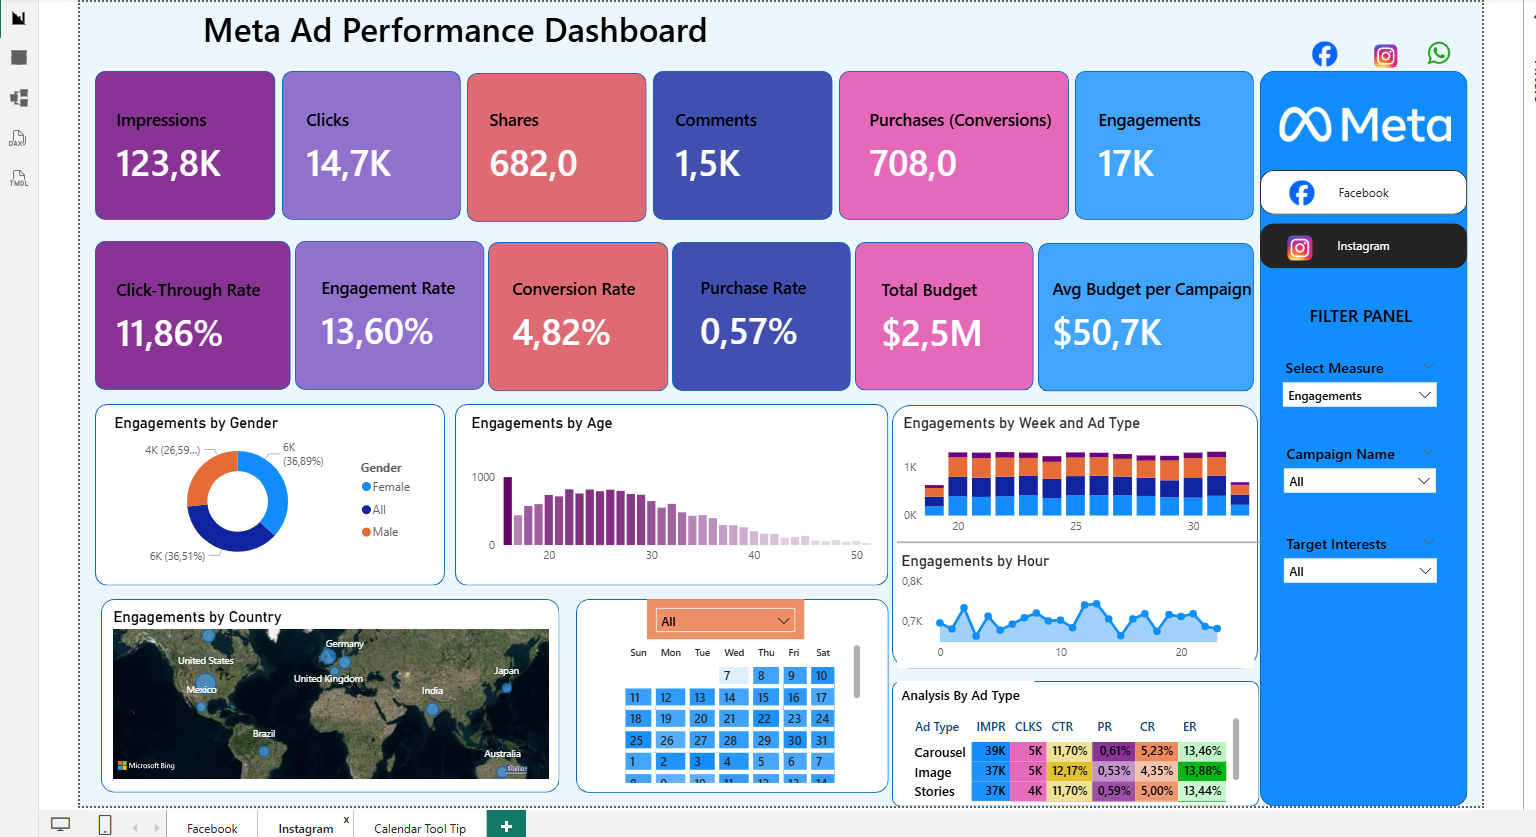

The page's visual inventory and layout, read from the dashboard file:
{"tool":"powerbi","page":{"name":"Instagram","canvas":[1570,900],"ordinal":1},"visuals":[{"type":"textbox","box":[89.2,0,661.5,77.4],"z":0},{"type":"shape","box":[16.8,77.4,202,166.6],"z":1000},{"type":"shape","box":[1321.2,77.4,232.3,823],"z":2000},{"type":"shape","box":[225.9,77.4,200.3,166.6],"z":3000},{"type":"shape","box":[433.2,79.1,201,166.6],"z":4000},{"type":"shape","box":[641.3,77.4,201,166.6],"z":5000},{"type":"shape","box":[849.3,77.4,257.5,166.6],"z":6000},{"type":"shape","box":[1113.9,77.4,200.3,166.6],"z":7000},{"type":"cardVisual","fields":{"Data":["ads.Impressions"]},"box":[23.6,97.6,183.5,127.9],"z":8000},{"type":"cardVisual","fields":{"Data":["ads.Clicks"]},"box":[235.6,97.6,173.4,127.9],"z":9000},{"type":"cardVisual","fields":{"Data":["ads.Shares"]},"box":[441,97.6,178.4,127.9],"z":10000},{"type":"cardVisual","fields":{"Data":["ads.Comments"]},"box":[649.7,97.6,183.5,127.9],"z":11000},{"type":"cardVisual","fields":{"Data":["ads.Purchases (Conversions)"]},"box":[866.8,97.6,240.7,127.9],"z":12000},{"type":"cardVisual","fields":{"Data":["ads.Engagements"]},"box":[1122.6,97.6,181.8,127.9],"z":13000},{"type":"shape","box":[16.8,267.6,218.8,166.6],"z":14000},{"type":"shape","box":[240.2,267.6,212.1,166.6],"z":15000},{"type":"shape","box":[456.8,268.2,201.8,167.3],"z":16000},{"type":"shape","box":[663.2,268.2,200,166.7],"z":17000},{"type":"shape","box":[867.8,268.5,200,166.2],"z":18000},{"type":"shape","box":[1072.3,269.2,241.5,166.2],"z":19000},{"type":"cardVisual","fields":{"Data":["ads.CTR (Click-Through Rate)"]},"box":[23.6,286.1,202,133],"z":20000},{"type":"cardVisual","fields":{"Data":["ads.Engagement Rate"]},"box":[252.5,284.4,188.5,133],"z":21000},{"type":"cardVisual","fields":{"Data":["ads.Conversion Rate"]},"box":[466.4,284.5,183.6,134.5],"z":22000},{"type":"cardVisual","fields":{"Data":["ads.Purchase Rate"]},"box":[677.3,284.8,178.8,131.8],"z":23000},{"type":"cardVisual","fields":{"Data":["ads.Total Budget"]},"box":[880,286.7,175,131.7],"z":24000},{"type":"cardVisual","fields":{"Data":["ads.Avg Budget per Campaign"]},"box":[1071.7,285,266.7,131.7],"z":25000},{"type":"shape","box":[16.7,450,391.7,203.3],"z":26000},{"type":"shape","box":[420,450,485,203.3],"z":27000},{"type":"slicer","fields":{"Values":["Select Measure.Select Measure"]},"box":[1336.7,393.3,191.7,68.3],"z":28000},{"type":"shape","box":[23.3,668.3,513.3,216.7],"z":29000},{"type":"donutChart","fields":{"Y":["ads.Engagements"],"Category":["ads.target_gender"]},"box":[33.3,461.7,351.7,176.7],"z":30000},{"type":"columnChart","fields":{"Y":["ads.Engagements"],"Category":["users.user_age"]},"box":[433.3,461.7,460,176.7],"z":31000},{"type":"map","fields":{"Size":["ads.Engagements"],"Category":["users.country"]},"box":[32.1,678.7,498.3,195.7],"z":32000},{"type":"shape","box":[554.9,668,350,217.1],"z":33000},{"type":"pivotTable","fields":{"Rows":["ad_events.Week Number"],"Values":["Min(ad_events.Day Number of Month)"],"Columns":["ad_events.Day Name"]},"box":[582.4,713.8,296.5,165.1],"z":34000},{"type":"slicer","fields":{"Values":["ad_events.Month Name"]},"box":[634.8,668.2,175.8,45.5],"z":35000},{"type":"shape","box":[909.5,450.9,409.6,295],"z":36000},{"type":"columnChart","fields":{"Y":["ads.Engagements"],"Category":["ad_events.Week Number"],"Series":["ads.ad_type"]},"box":[917.1,461.6,397.4,143.7],"z":37000},{"type":"shape","box":[914.1,576.3,406.6,56.6],"z":38000},{"type":"areaChart","fields":{"Y":["ads.Engagements"],"Category":["ad_events.Day Hours"]},"box":[914.1,616,400.5,129.9],"z":39000},{"type":"shape","box":[909.5,759.7,411.2,140.6],"z":40000},{"type":"pivotTable","fields":{"Rows":["ads.ad_type"],"Values":["ads.Impressions","ads.Clicks","ads.Click-Through Rate","ads.Purchase Rate","ads.Conversion Rate","ads.Engagement Rate"]},"box":[924.8,796.4,379.1,103.9],"z":41000},{"type":"textbox","box":[914.1,759.7,154.4,36.7],"z":42000},{"type":"slicer","fields":{"Values":["campaigns.name"]},"box":[1337.5,489.1,189.5,71.8],"z":43000},{"type":"slicer","fields":{"Values":["users.interests"]},"box":[1337.5,590,191.1,62.7],"z":44000},{"type":"textbox","box":[1371.1,333.2,133,39.7],"z":45000},{"type":"pageNavigator","box":[1320.7,188,232.3,111.6],"z":46000},{"type":"image","box":[1339,195,58,38],"z":47000},{"type":"image","box":[1337,256,58,38],"z":48000},{"type":"image","box":[1337.9,97,201.5,78.8],"z":49000},{"type":"image","box":[1431.8,42.4,59.1,36.4],"z":50000},{"type":"image","box":[1363.6,39.4,59.1,37.9],"z":51000},{"type":"image","box":[1490.9,39.4,59.1,36.4],"z":52000}]}

Visuals, with their boxes on the page's 1570x900 design canvas (x1, y1, x2, y2). These are canvas units, not pixel positions in the 1536x837 screenshot, which may show the page scaled, cropped or inside an application window:
textbox: left=89, top=0, right=751, bottom=77
shape: left=17, top=77, right=219, bottom=244
shape: left=1321, top=77, right=1554, bottom=900
shape: left=226, top=77, right=426, bottom=244
shape: left=433, top=79, right=634, bottom=246
shape: left=641, top=77, right=842, bottom=244
shape: left=849, top=77, right=1107, bottom=244
shape: left=1114, top=77, right=1314, bottom=244
cardVisual - ads.Impressions: left=24, top=98, right=207, bottom=226
cardVisual - ads.Clicks: left=236, top=98, right=409, bottom=226
cardVisual - ads.Shares: left=441, top=98, right=619, bottom=226
cardVisual - ads.Comments: left=650, top=98, right=833, bottom=226
cardVisual - ads.Purchases (Conversions): left=867, top=98, right=1108, bottom=226
cardVisual - ads.Engagements: left=1123, top=98, right=1304, bottom=226
shape: left=17, top=268, right=236, bottom=434
shape: left=240, top=268, right=452, bottom=434
shape: left=457, top=268, right=659, bottom=436
shape: left=663, top=268, right=863, bottom=435
shape: left=868, top=268, right=1068, bottom=435
shape: left=1072, top=269, right=1314, bottom=435
cardVisual - ads.CTR (Click-Through Rate): left=24, top=286, right=226, bottom=419
cardVisual - ads.Engagement Rate: left=252, top=284, right=441, bottom=417
cardVisual - ads.Conversion Rate: left=466, top=284, right=650, bottom=419
cardVisual - ads.Purchase Rate: left=677, top=285, right=856, bottom=417
cardVisual - ads.Total Budget: left=880, top=287, right=1055, bottom=418
cardVisual - ads.Avg Budget per Campaign: left=1072, top=285, right=1338, bottom=417
shape: left=17, top=450, right=408, bottom=653
shape: left=420, top=450, right=905, bottom=653
slicer - Select Measure.Select Measure: left=1337, top=393, right=1528, bottom=462
shape: left=23, top=668, right=537, bottom=885
donutChart - ads.Engagements x ads.target_gender: left=33, top=462, right=385, bottom=638
columnChart - ads.Engagements x users.user_age: left=433, top=462, right=893, bottom=638
map - ads.Engagements x users.country: left=32, top=679, right=530, bottom=874
shape: left=555, top=668, right=905, bottom=885
pivotTable - ad_events.Week Number x Min(ad_events.Day Number of Month): left=582, top=714, right=879, bottom=879
slicer - ad_events.Month Name: left=635, top=668, right=811, bottom=714
shape: left=910, top=451, right=1319, bottom=746
columnChart - ads.Engagements x ad_events.Week Number: left=917, top=462, right=1314, bottom=605
shape: left=914, top=576, right=1321, bottom=633
areaChart - ads.Engagements x ad_events.Day Hours: left=914, top=616, right=1315, bottom=746
shape: left=910, top=760, right=1321, bottom=900
pivotTable - ads.ad_type x ads.Impressions: left=925, top=796, right=1304, bottom=900
textbox: left=914, top=760, right=1068, bottom=796
slicer - campaigns.name: left=1338, top=489, right=1527, bottom=561
slicer - users.interests: left=1338, top=590, right=1529, bottom=653
textbox: left=1371, top=333, right=1504, bottom=373
pageNavigator: left=1321, top=188, right=1553, bottom=300
image: left=1339, top=195, right=1397, bottom=233
image: left=1337, top=256, right=1395, bottom=294
image: left=1338, top=97, right=1539, bottom=176
image: left=1432, top=42, right=1491, bottom=79
image: left=1364, top=39, right=1423, bottom=77
image: left=1491, top=39, right=1550, bottom=76
